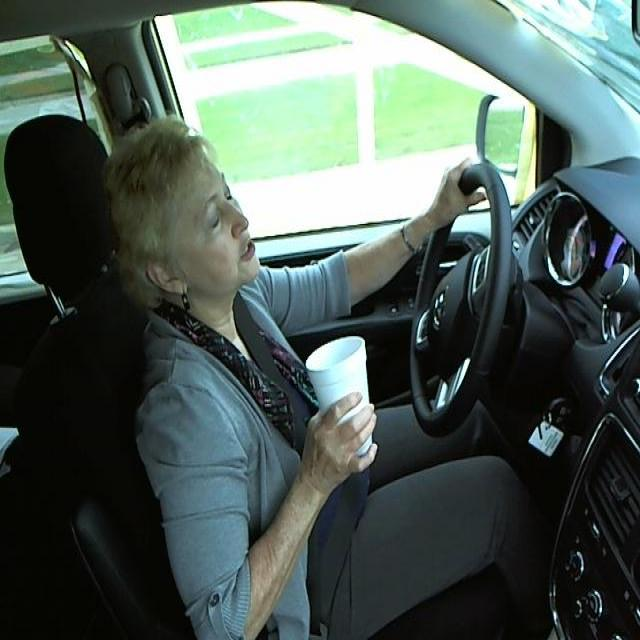drinking: (304, 331, 378, 462)
